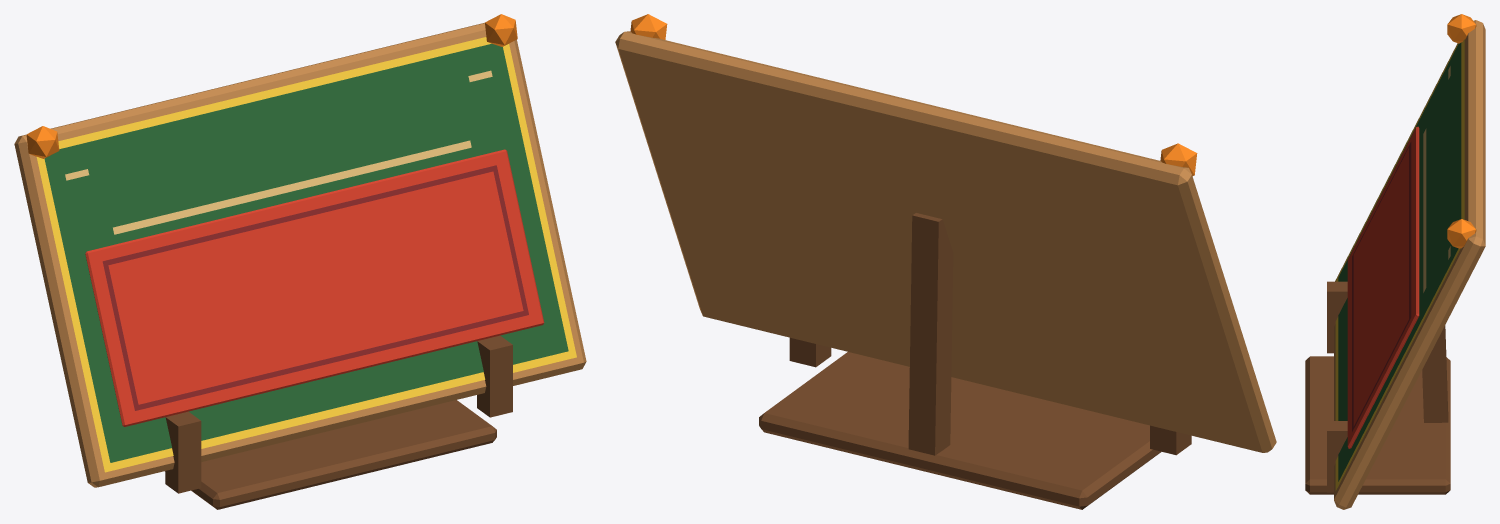
File: seats_board.glb
3 renders of one model, left to right at view 1: azimuth 30°, elevation 25°; view 2: azimuth 150°, elevation 25°; view 3: azimuth 270°, elevation 25°, orthographic. The views are drawn at different scales.
Parts seen in each view (by area): view 1: board, full_plate; view 2: board; view 3: board, full_plate.
Part boxes in pixels (x1,y1,x2,y2): board: (14, 14, 586, 509); full_plate: (85, 149, 544, 426); board: (615, 14, 1276, 509); board: (1305, 14, 1485, 509); full_plate: (1347, 126, 1419, 448).
Size of the model in its own units: 1.08 by 0.7211 by 0.3726.
1 material, 1 textured.
